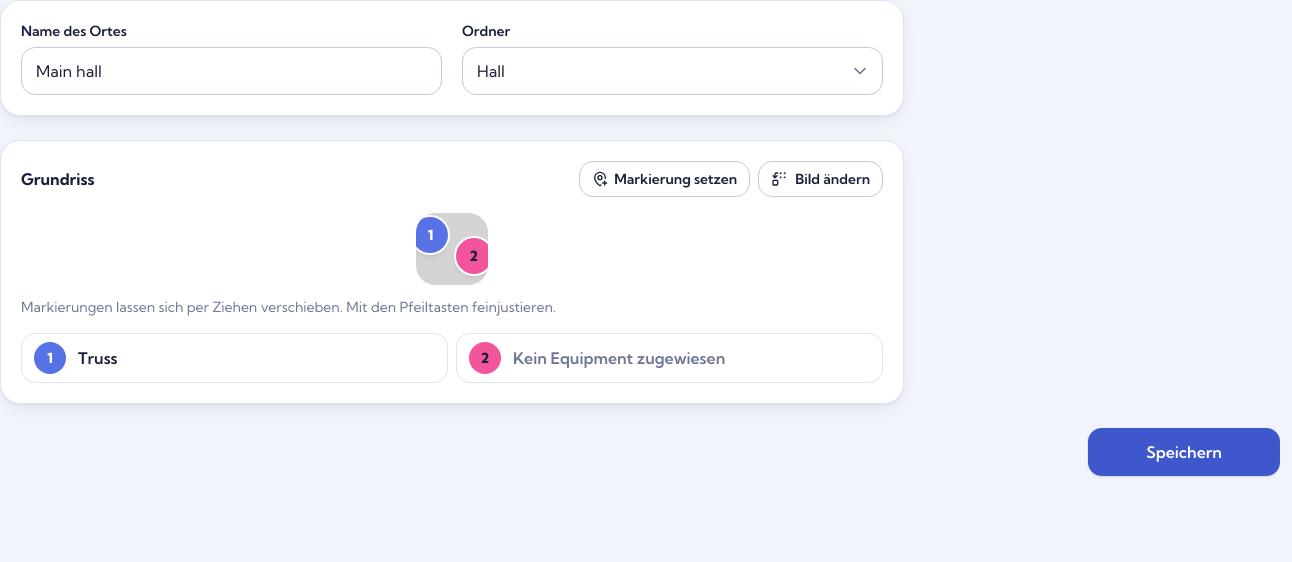
PlaceForm (edit) › shows the server's reason and stays on the form when saving fails
Click the button "Speichern". click: (1184, 452)
box: [1088,428,1280,476]
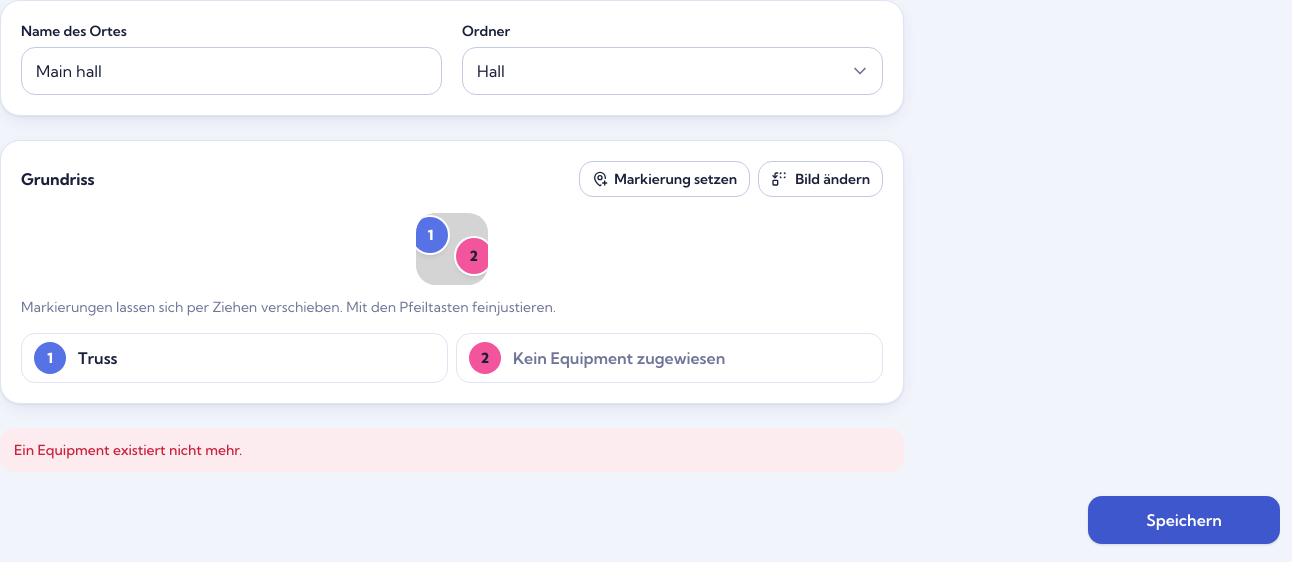
Now the message shows "Equipment existiert nicht mehr", box [14,441,242,459]
